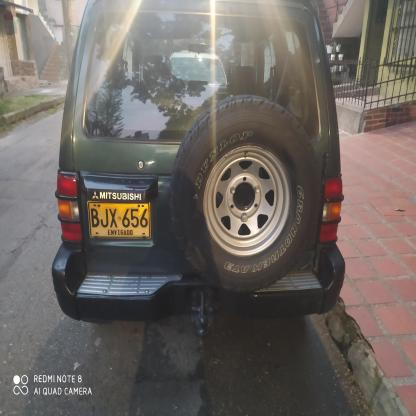placa: (85, 199, 153, 240)
